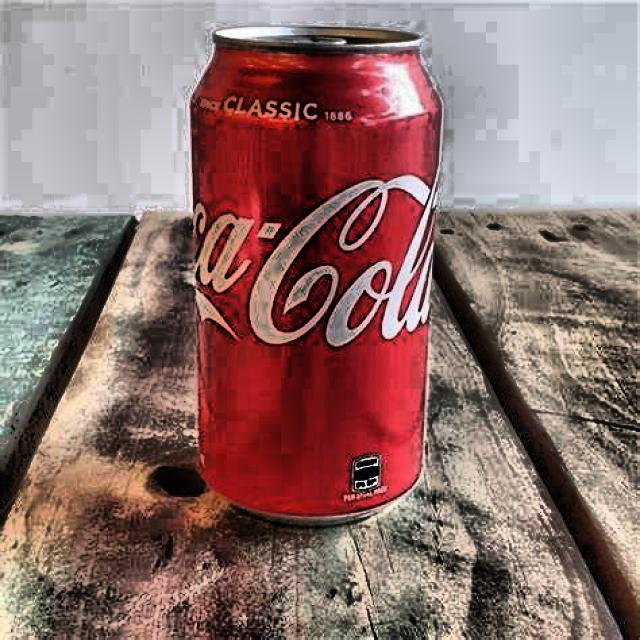Cans: (148, 10, 474, 557)
